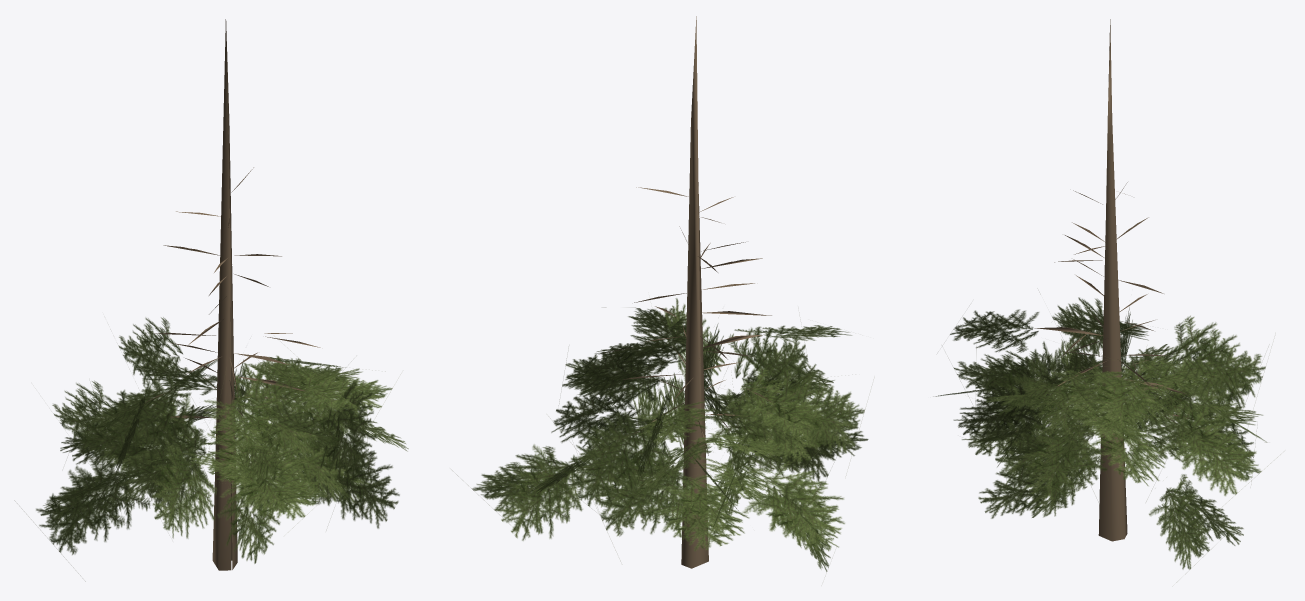
Rendered from spruce_young_lod1.glb.
3 renders of one model, left to right at view 1: azimuth 30°, elevation 25°; view 2: azimuth 150°, elevation 25°; view 3: azimuth 270°, elevation 25°, orthographic. The views are drawn at different scales.
Parts seen in each view (by area): view 1: bark; view 2: bark; view 3: bark.
Boxes of the visible parts, x1=… form: bark: x1=21, y1=19, x2=408, y2=581; bark: x1=457, y1=16, x2=868, y2=571; bark: x1=935, y1=19, x2=1277, y2=569.
Size of the model in its own units: 8.23 by 11.83 by 7.75.
Materials: 1 (1 with a texture image).
